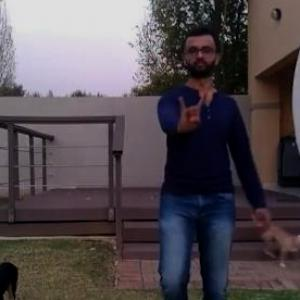takeoff-hand: (170, 85, 209, 138)
